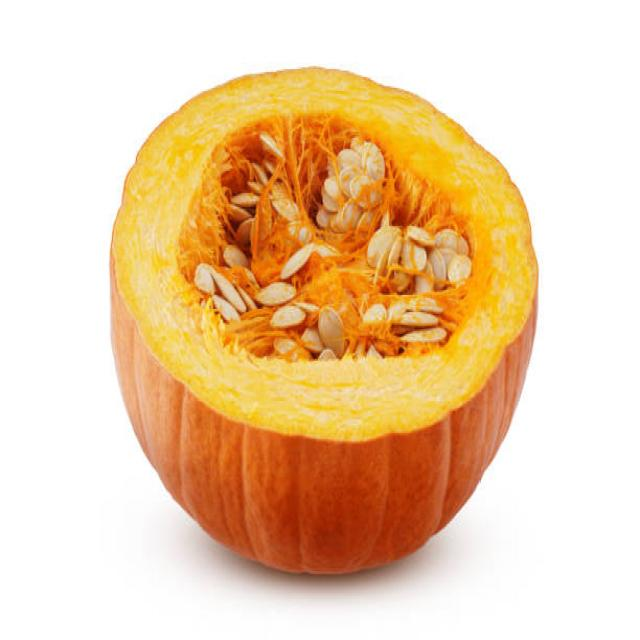pumpkin: (104, 64, 541, 581)
